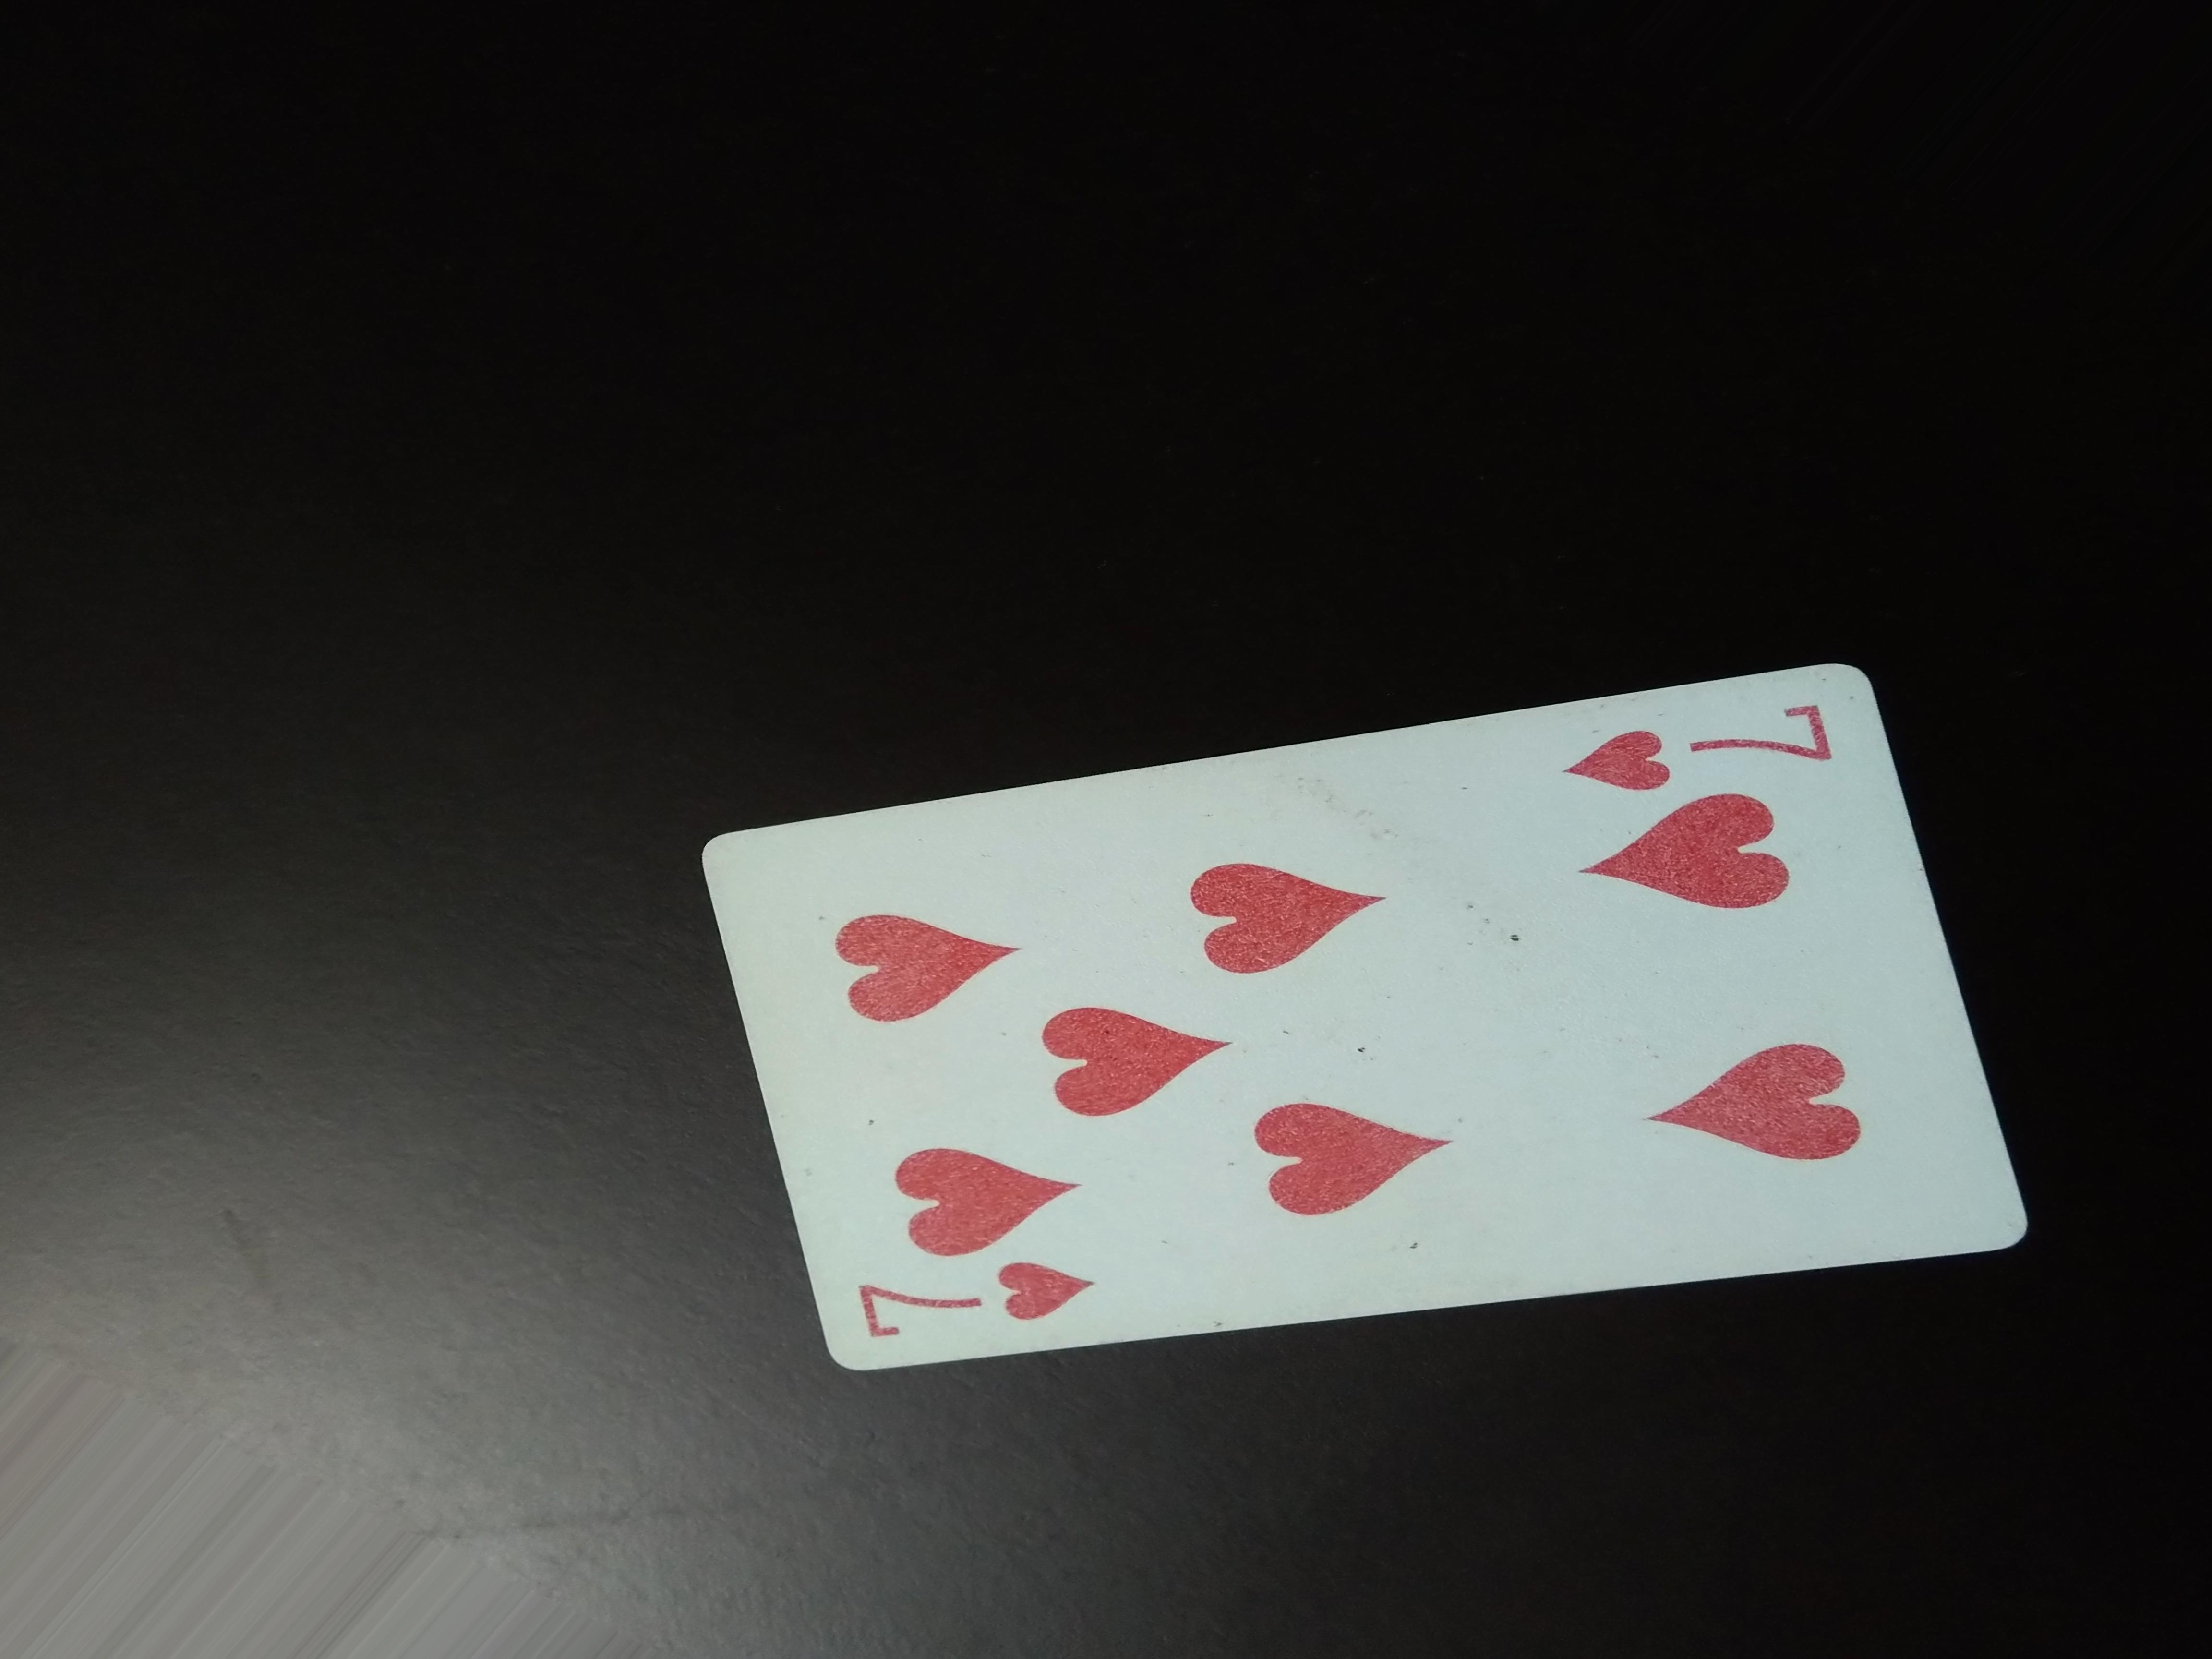7H: (817, 1241, 1139, 1338)
